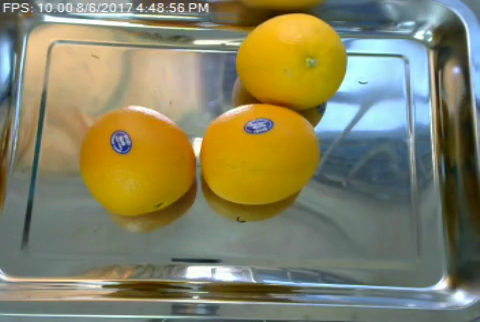Orange: (80, 106, 197, 216), (199, 103, 322, 206), (234, 12, 348, 107)
